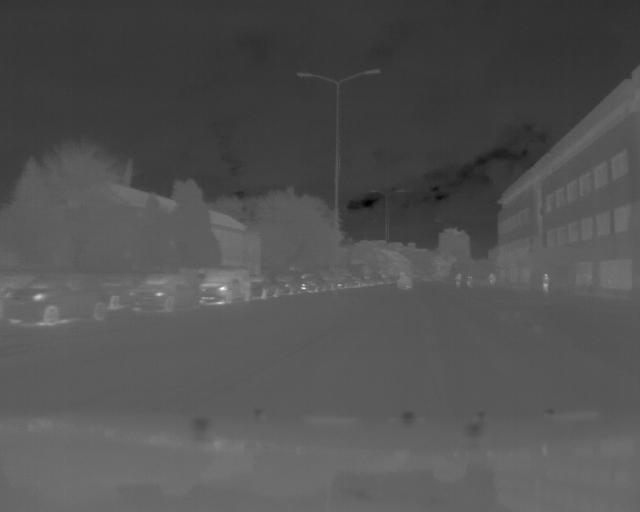car: (4, 277, 112, 325), (130, 273, 201, 309), (206, 268, 256, 302), (268, 272, 336, 296)
person: (540, 267, 552, 294)
